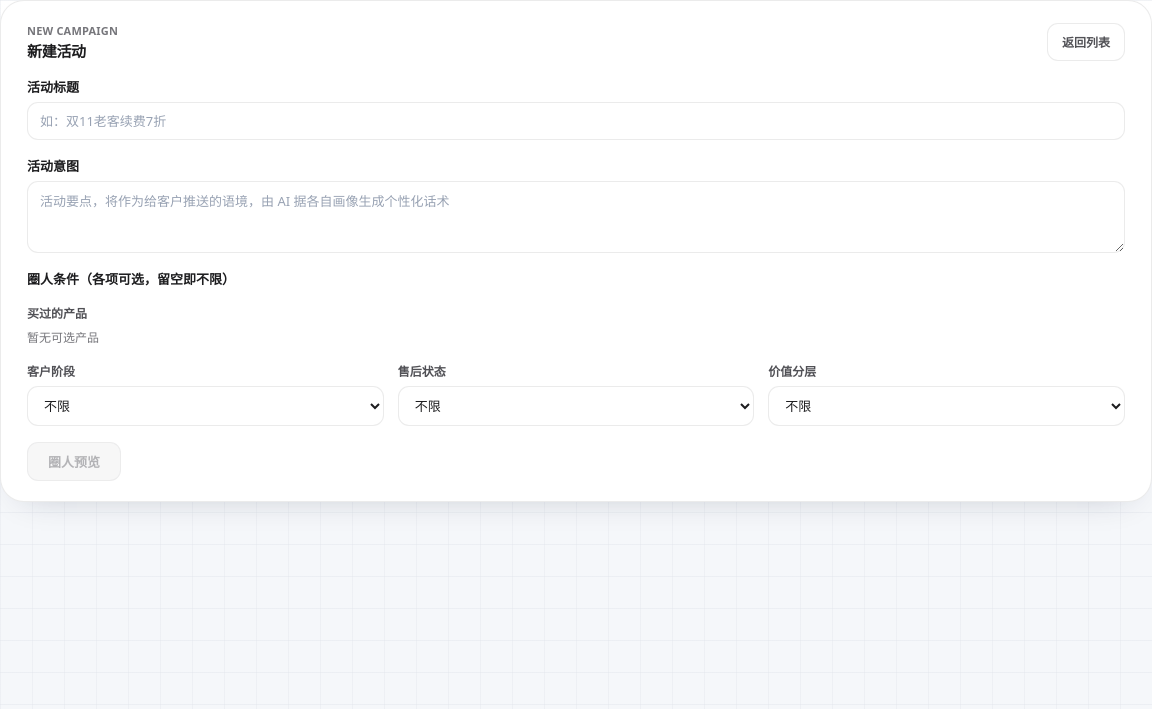
Scenario: CampaignCreate 建活动表单 › 改条件再预览 → 先 CAS 保存完整 draft，再按新版本 preview
The image size is (1152, 709).
In the field with placeholder "如：双11老客续费7折": (576, 121) [27, 102, 1125, 140], type "活动A"
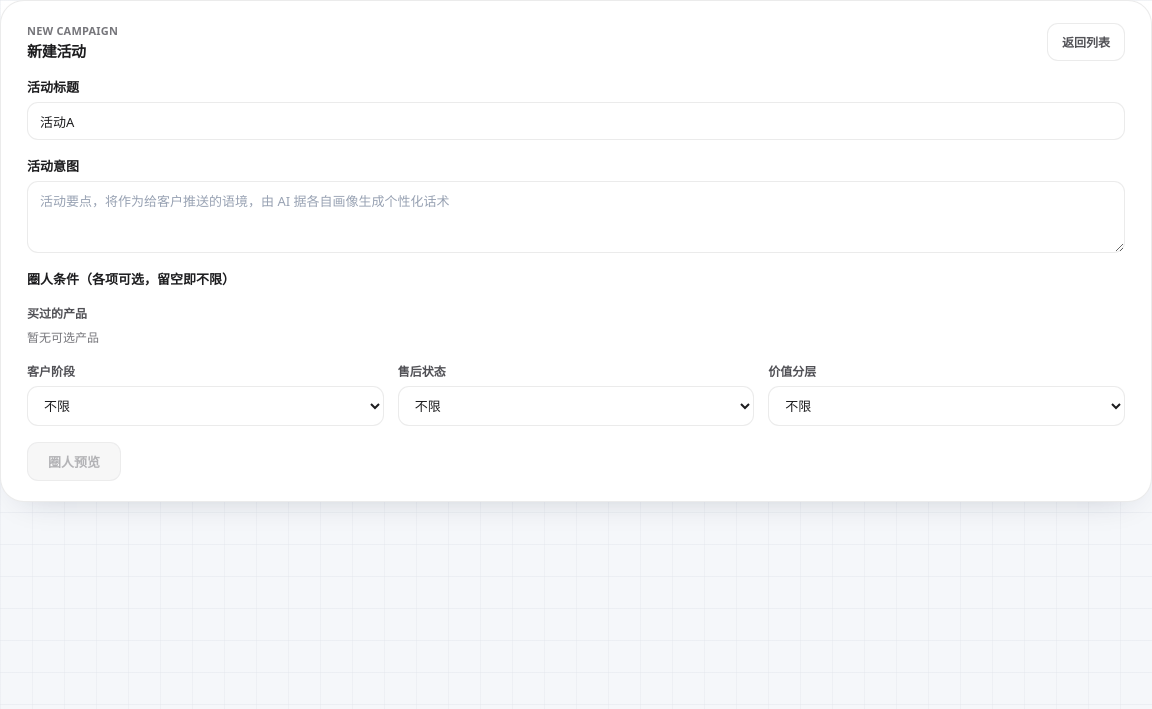
In the text box with placeholder "活动要点，将作为给客户推送的语境，由 AI 据各自画像生成个性化话术": (576, 217) [27, 181, 1125, 253], type "7折"
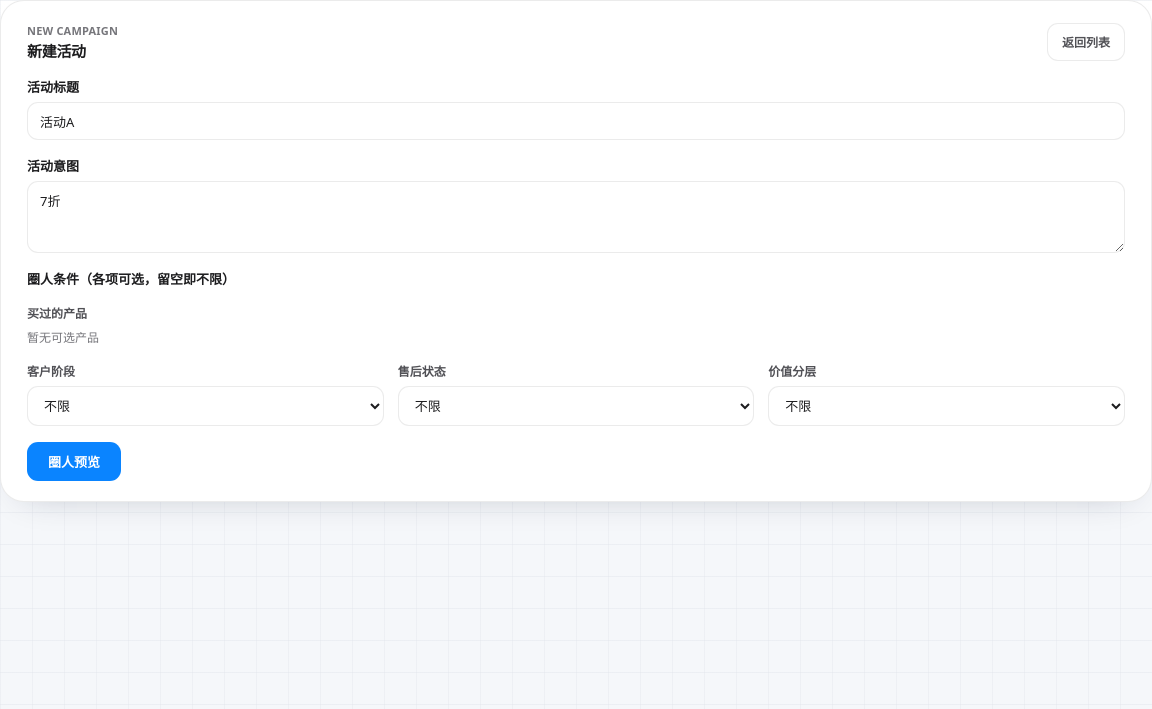
Click the button "圈人预览": (74, 462) [27, 442, 121, 481]
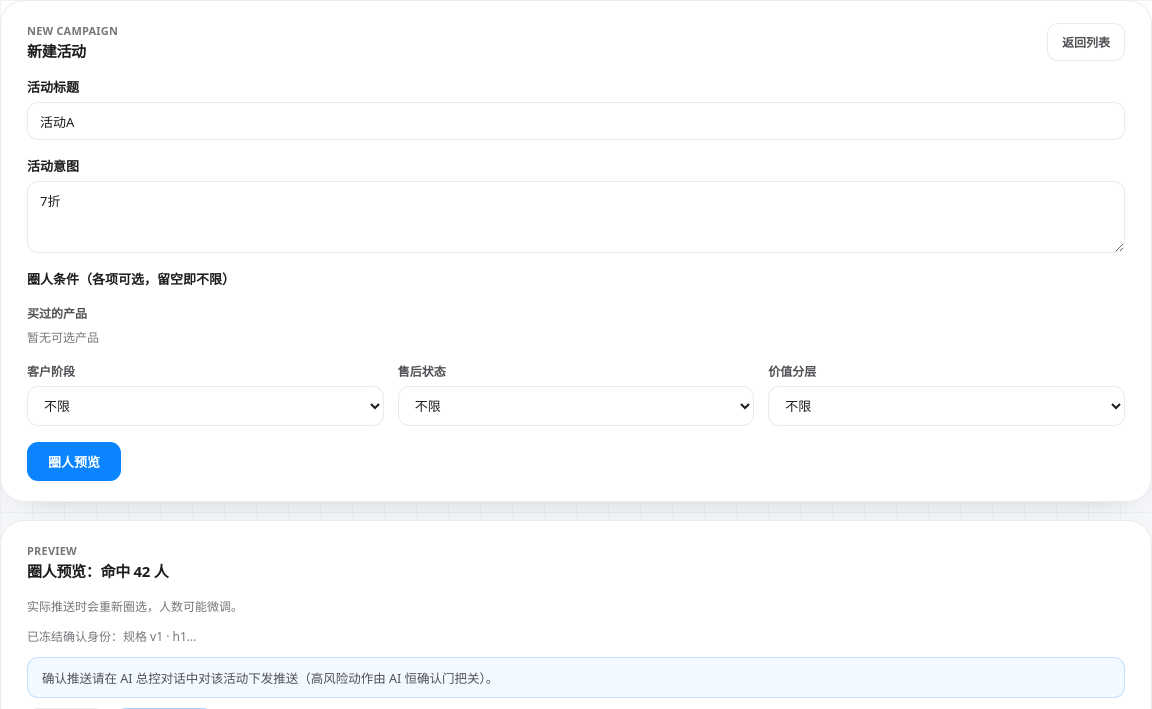
expect the text "圈人预览：命中 42 人" is shown: met, box [27, 560, 168, 581]
Select "售后中" in the dropdown labelled "售后状态": (576, 406) [398, 386, 754, 426]
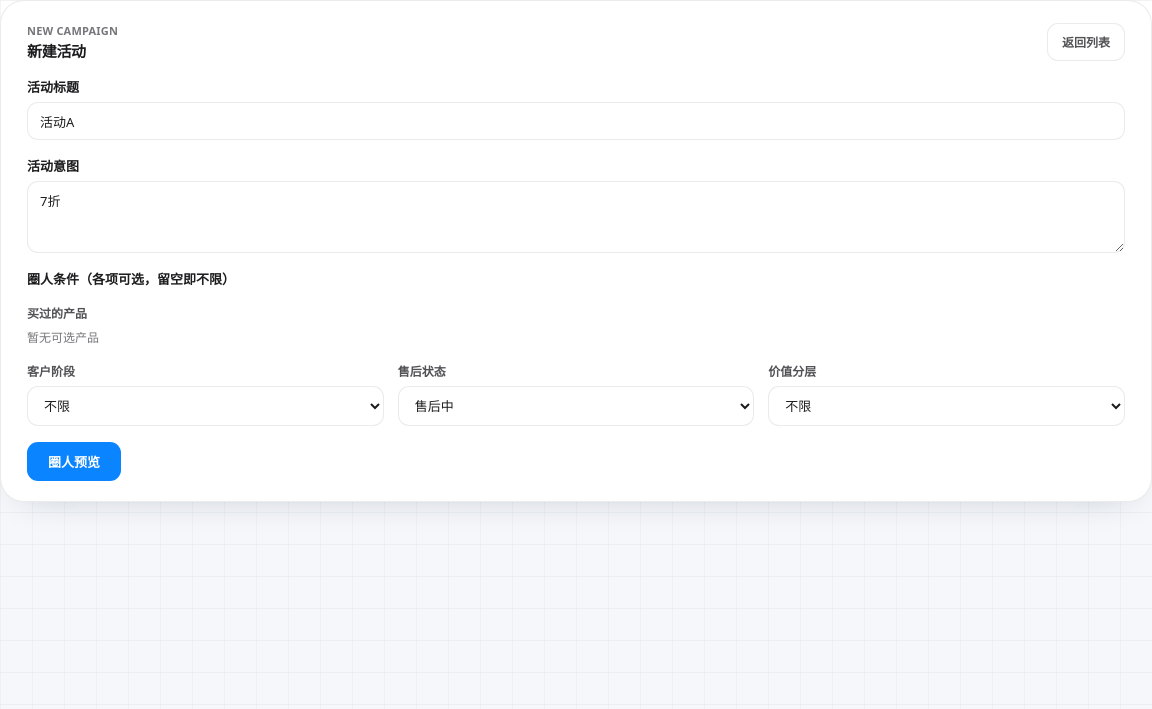
Click the button "圈人预览": (74, 462) [27, 442, 121, 481]
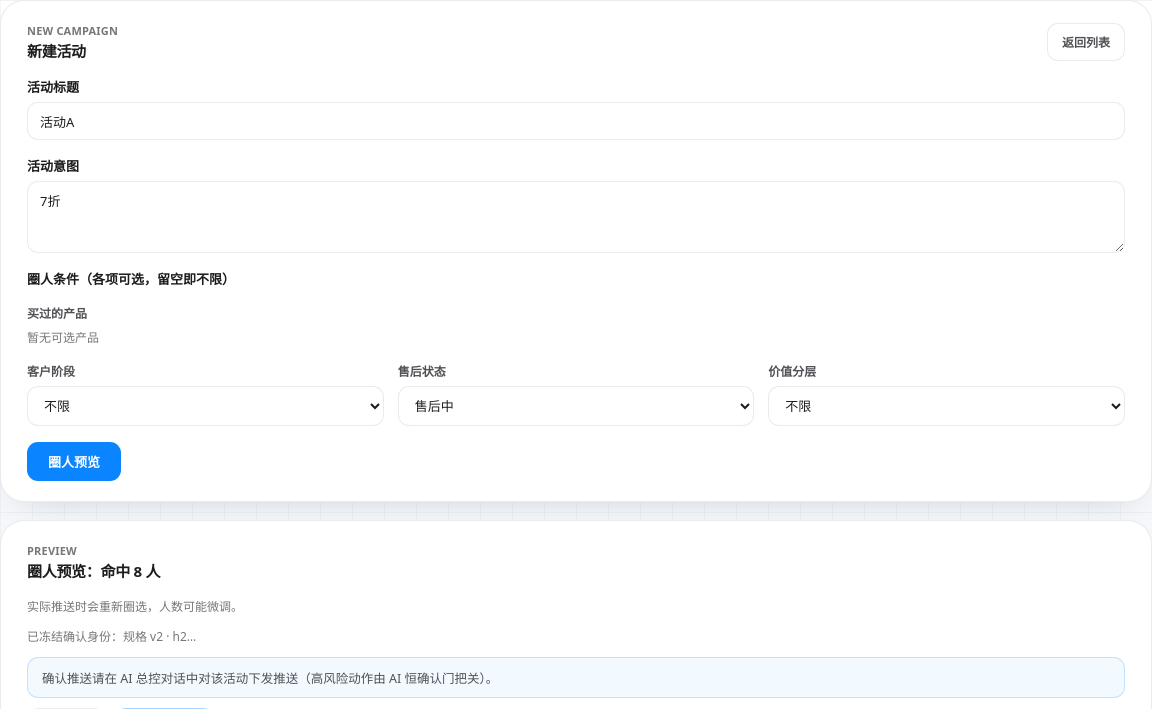
expect the text "圈人预览：命中 8 人" is shown: met, box [27, 560, 160, 581]
